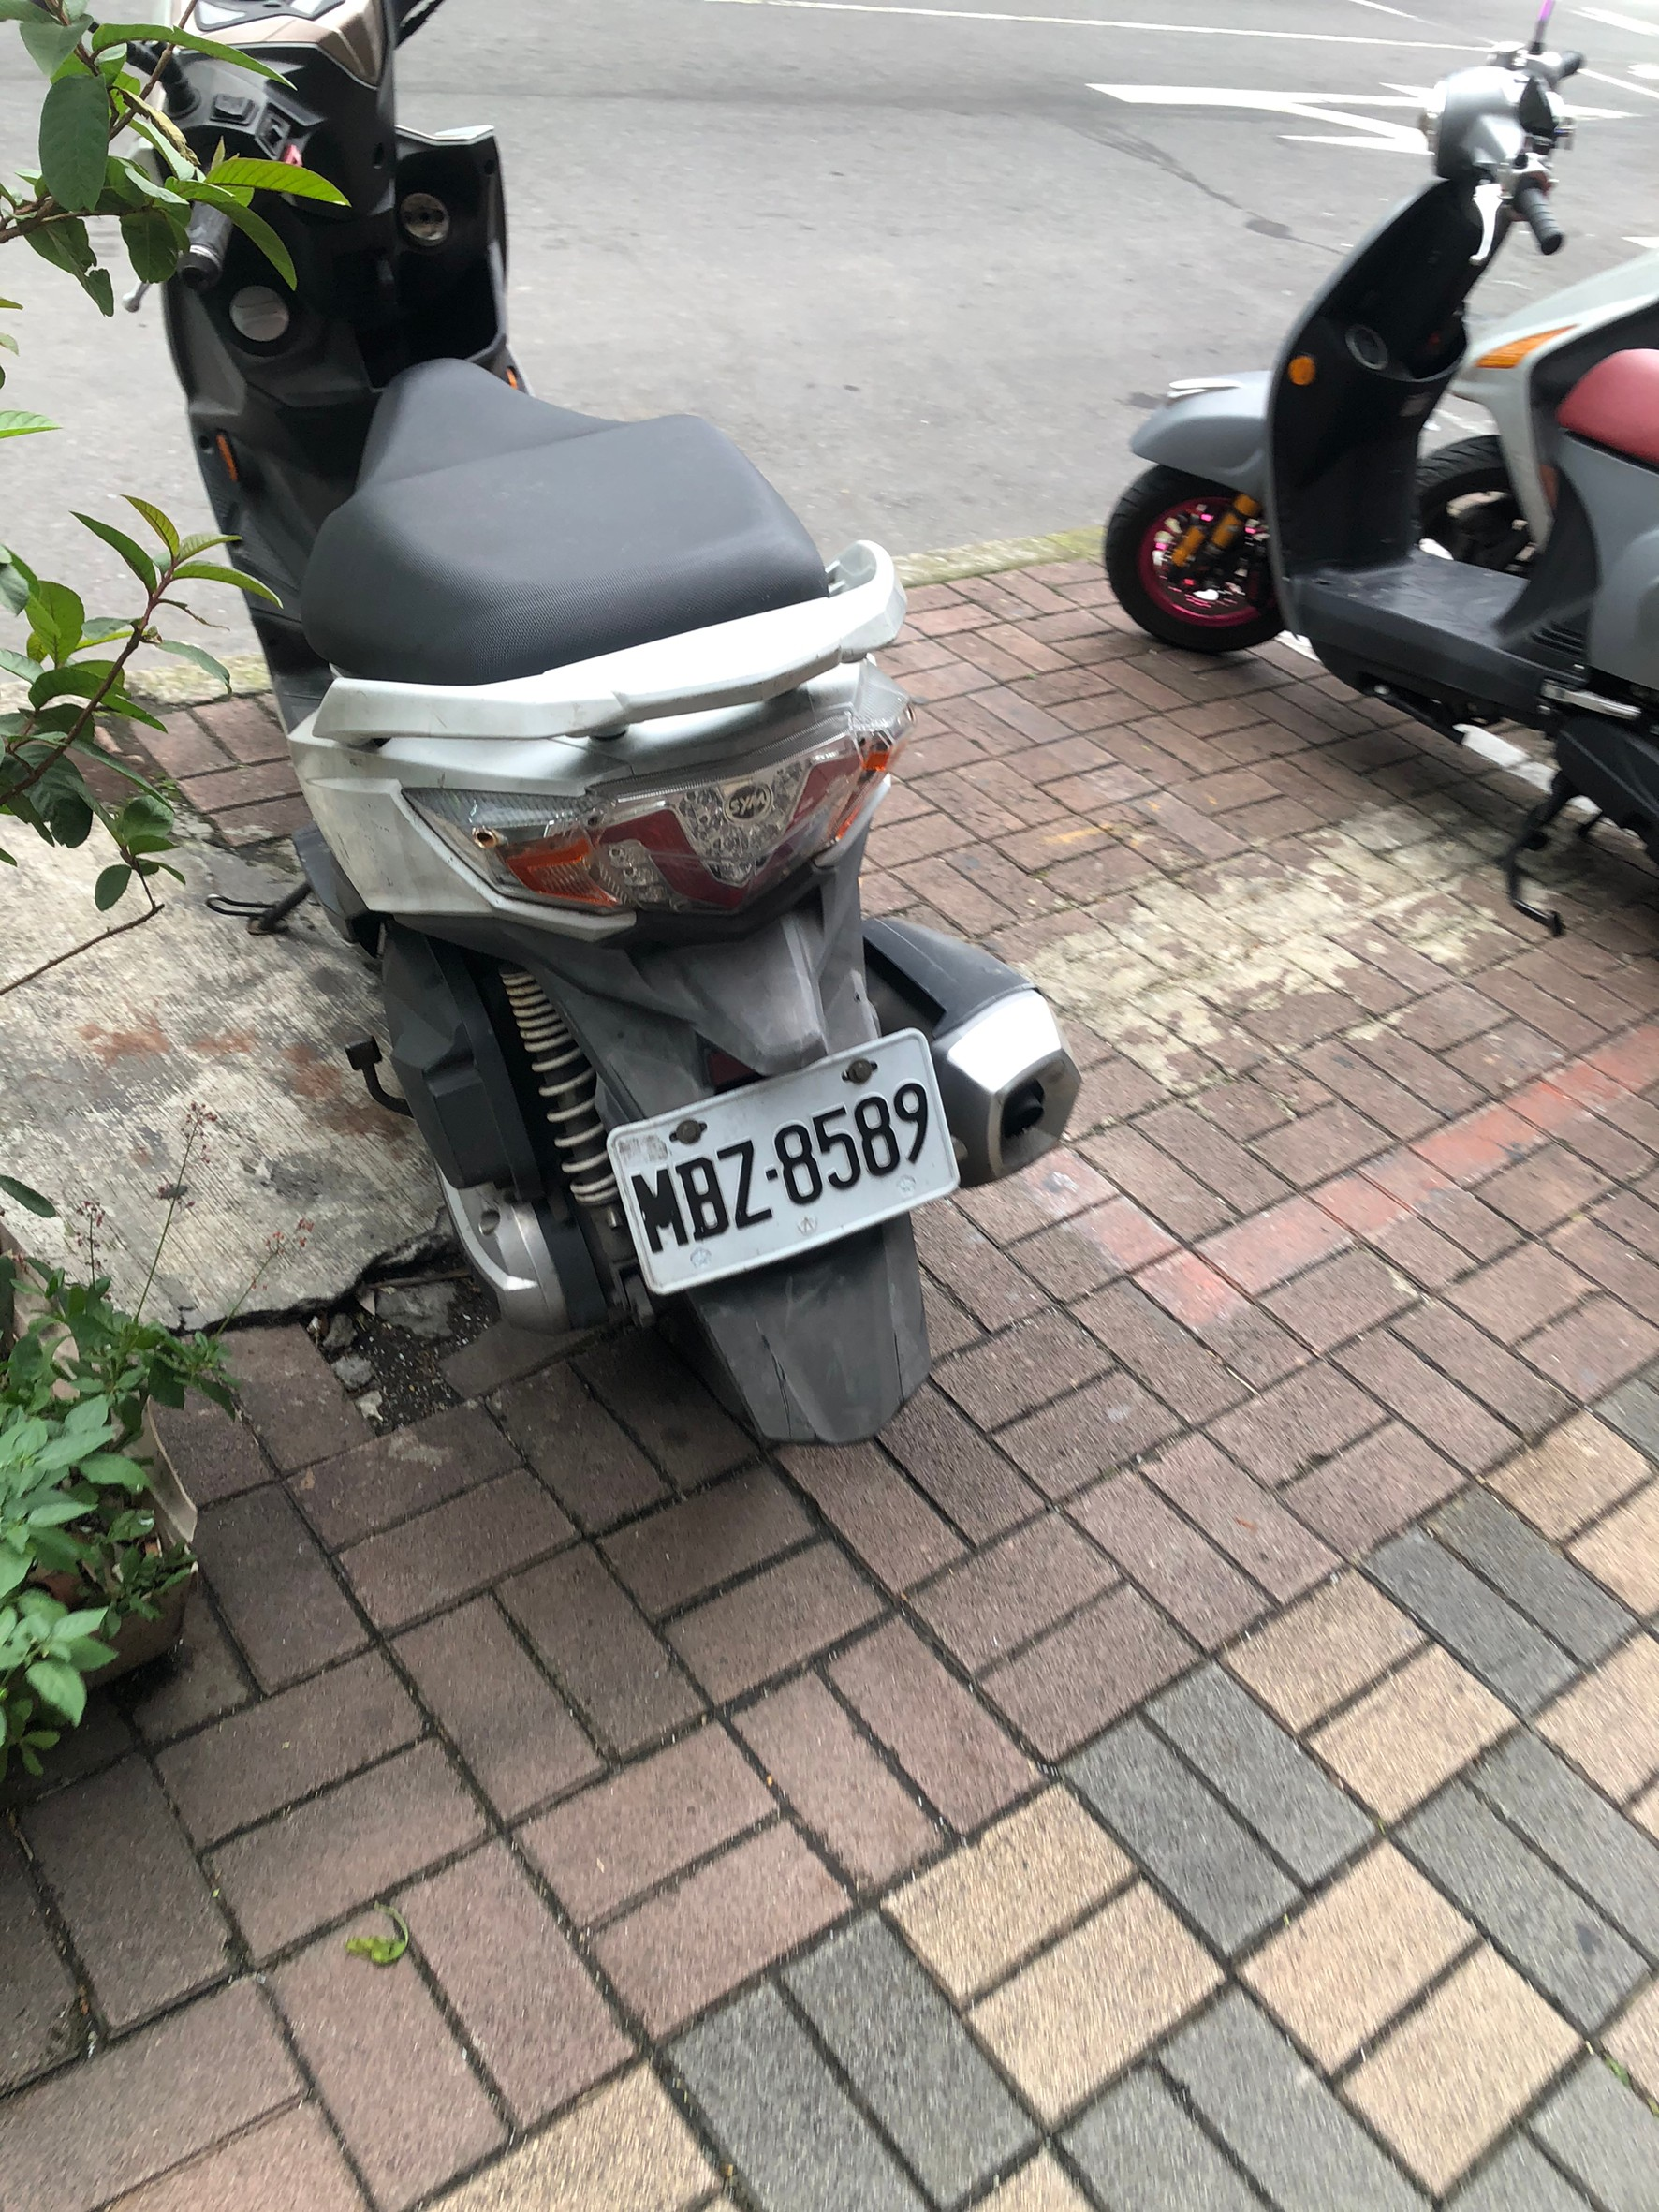LP: (624, 1068, 941, 1290)
